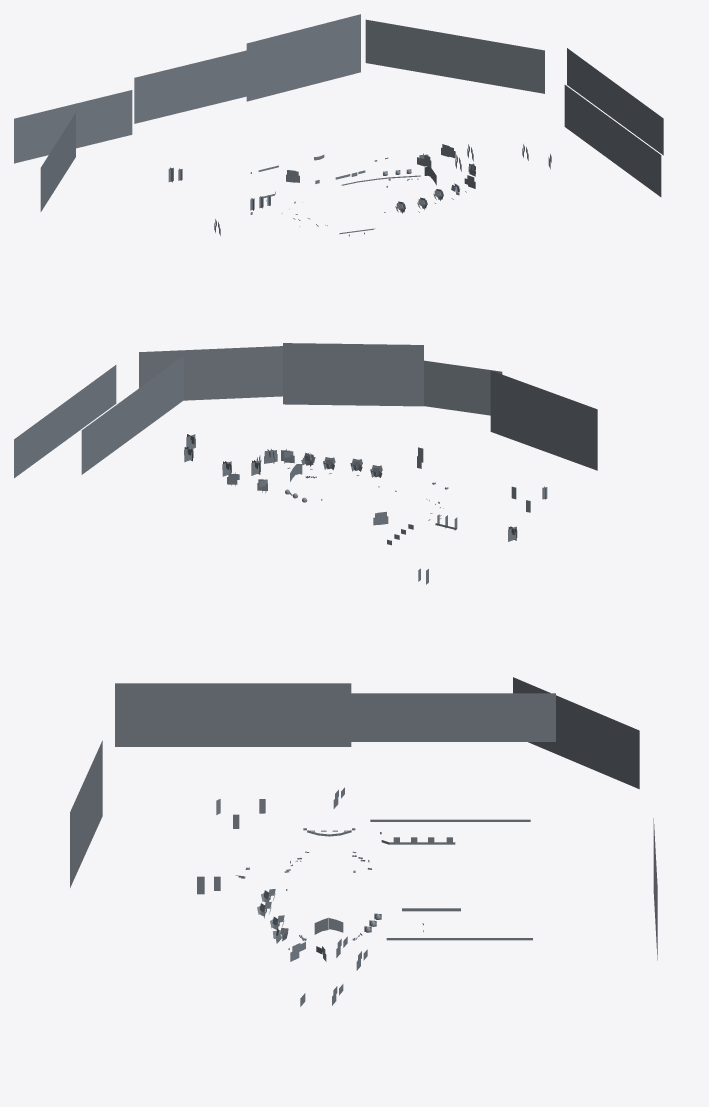
The model's file is gltf__Models__map__Village__playGround__playGround_mergedAlpha_oneMesh.glb.
3 views of the same model, one above another, from view 1: azimuth 30°, elevation 25°; view 2: azimuth 150°, elevation 25°; view 3: azimuth 270°, elevation 25° (orthographic). The views are drawn at different scales.
Parts seen in each view (by area): view 1: playGround_mergedAlpha_oneMesh; view 2: playGround_mergedAlpha_oneMesh; view 3: playGround_mergedAlpha_oneMesh.
Part boxes in pixels (<box>): playGround_mergedAlpha_oneMesh: <box>14,14,663,236</box>; playGround_mergedAlpha_oneMesh: <box>14,343,597,584</box>; playGround_mergedAlpha_oneMesh: <box>70,677,657,1006</box>.
Bounding box in the file's own units: 89.34 × 13.29 × 76.38.
1 material, 1 textured.
